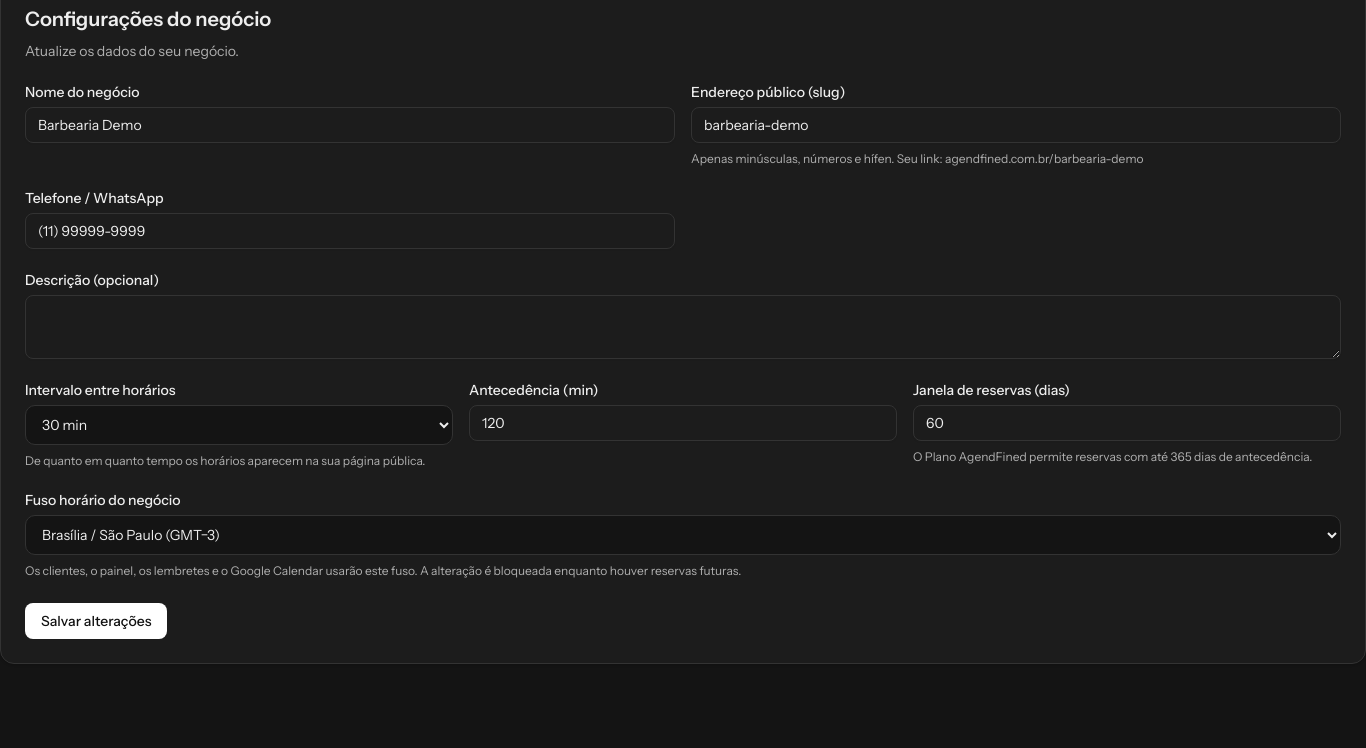
Test case: BusinessForm › descarta o erro do servidor quando a validação do cliente bloqueia o próximo envio
Click the button "Salvar alterações" at [96, 621], box [25,603,167,639]
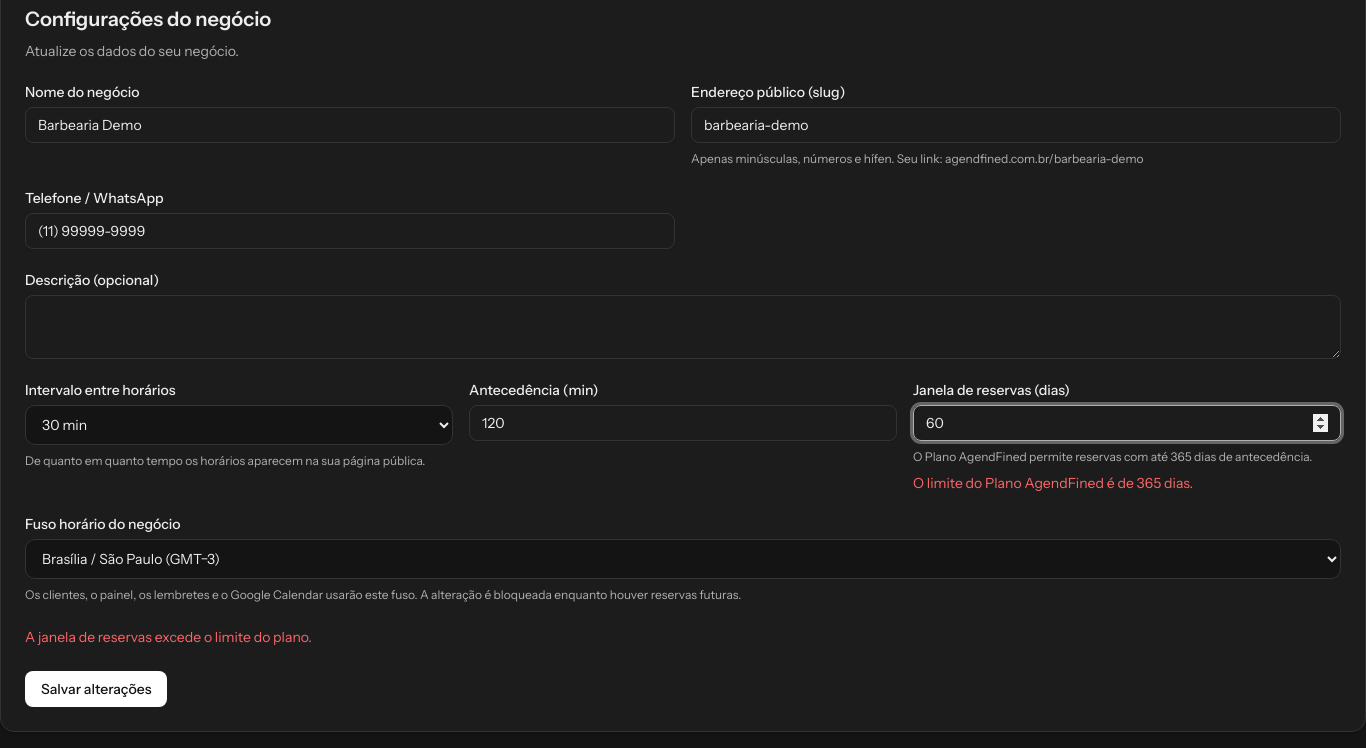
Result: the text "O limite do Plano AgendFined é de 365 dias." is shown at [913,474,1193,492]
Replace the text in the field labelled "Endereço público (slug)" with "login" at [1016, 125], box [691,107,1341,143]
(page scrolled)
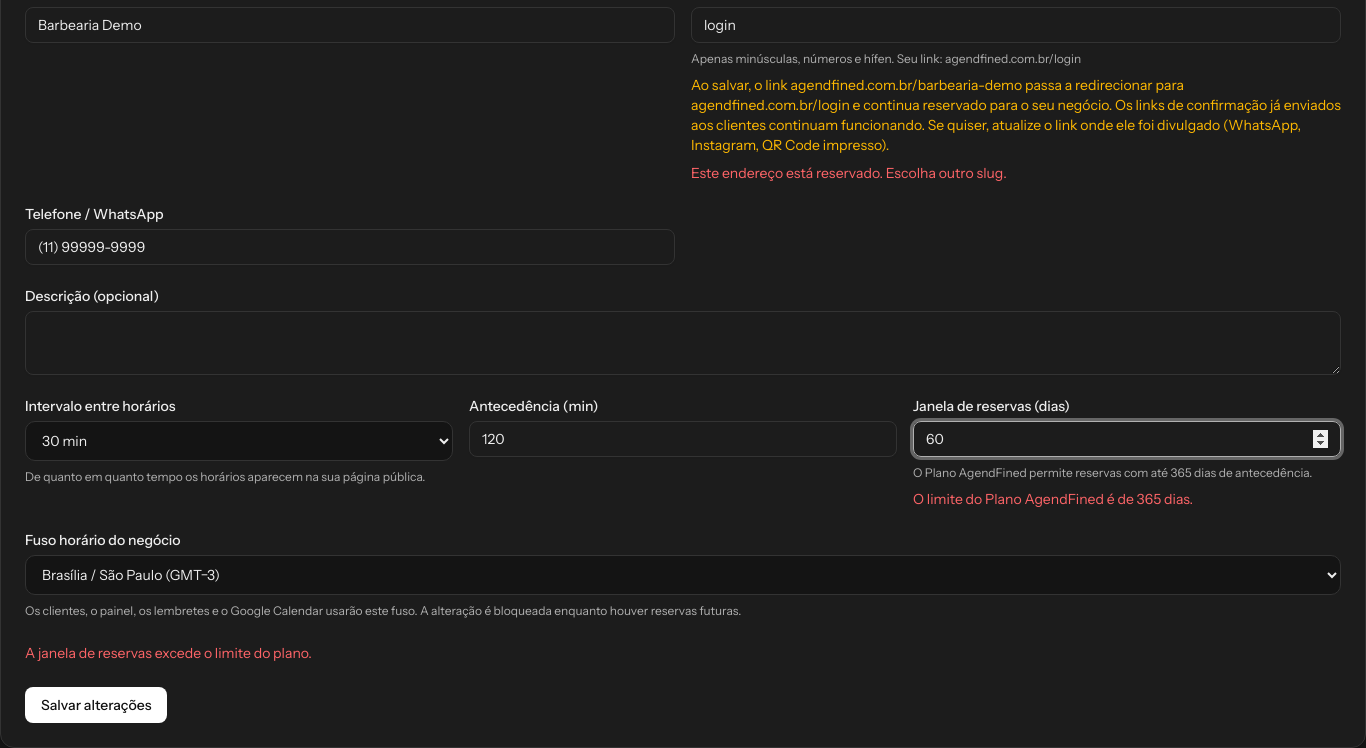
Click the button "Salvar alterações" at [96, 705], box [25,687,167,723]
(page scrolled)
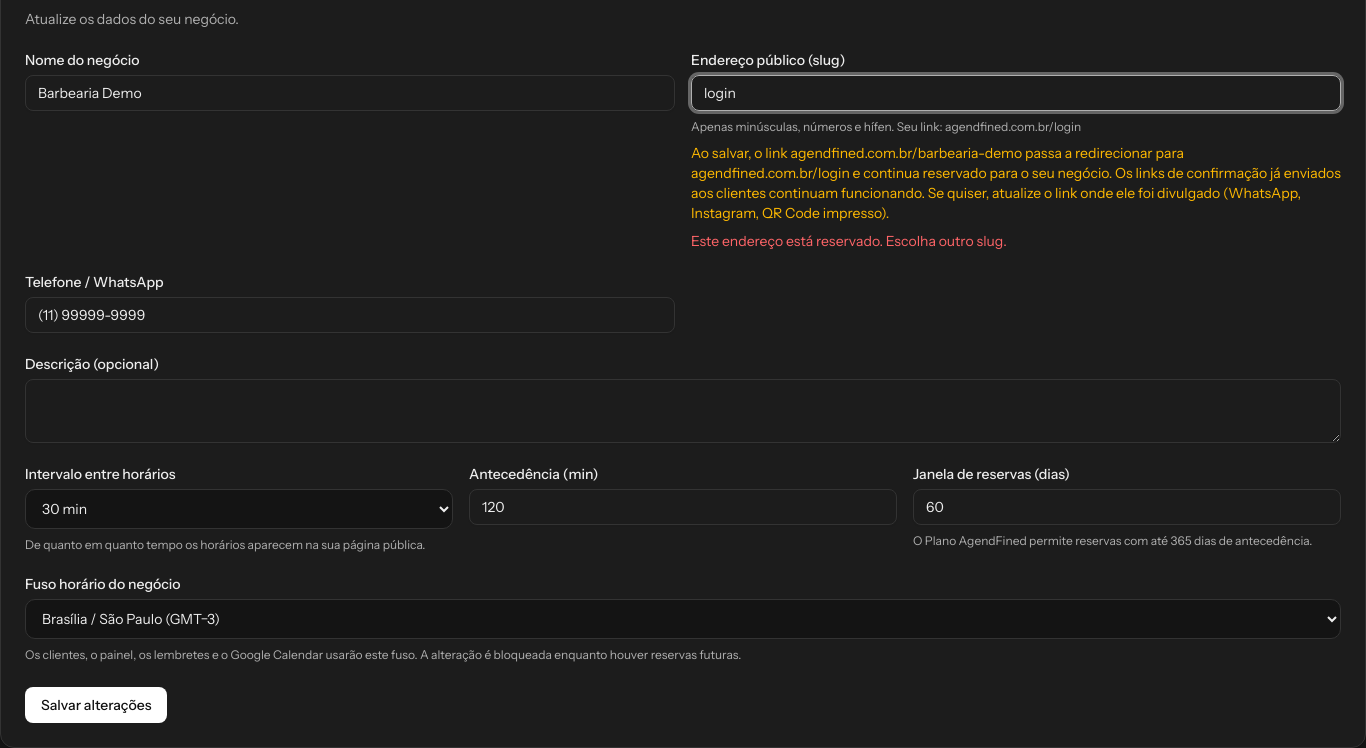
Result: the text "Este endereço está reservado. Escolha outro slug." is shown at [691,232,1007,250]
Result: the text "O limite do Plano AgendFined é de 365 dias." is gone
Result: the text "A janela de reservas excede o limite do plano." is gone
